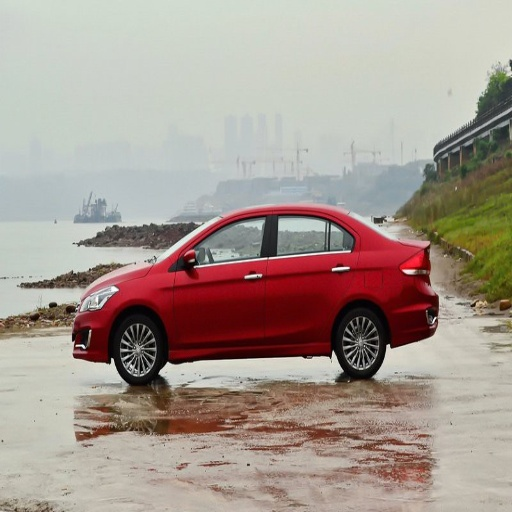back_bumper: (391, 296, 438, 341)
back_left_door: (266, 213, 358, 339)
front_left_door: (174, 213, 270, 345)
